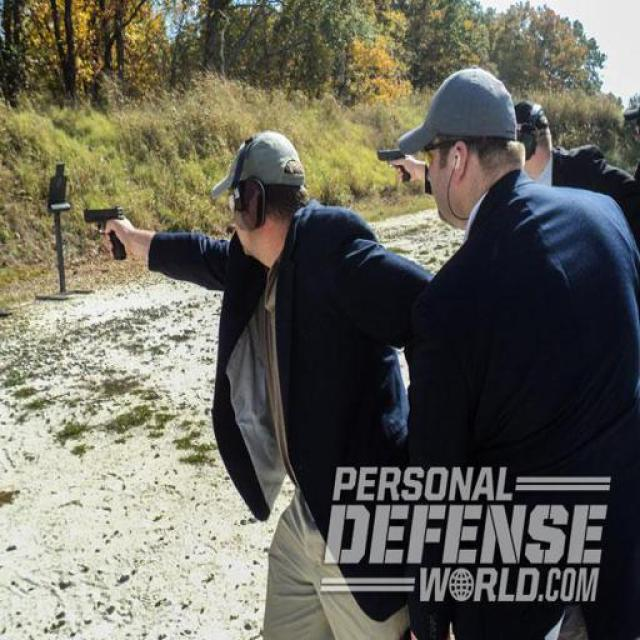pistol: (81, 202, 130, 265)
